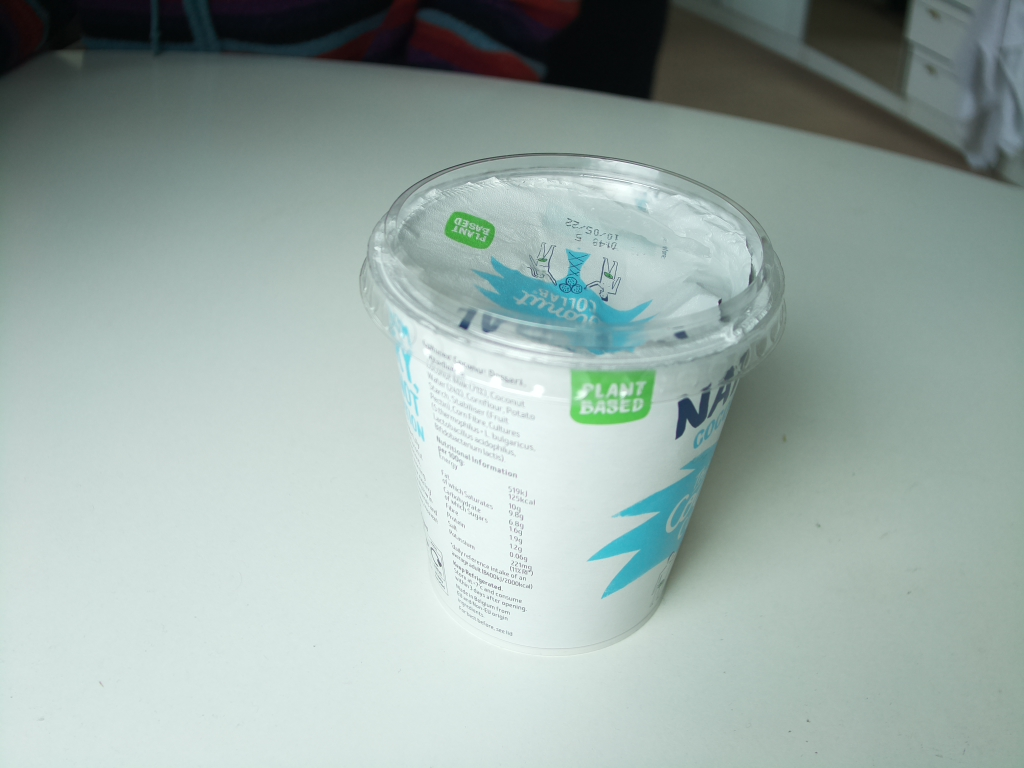yogurt: (359, 147, 784, 659)
